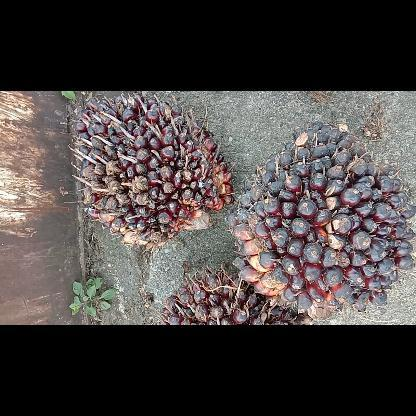TBS mentah: (226, 119, 414, 315), (71, 96, 233, 244), (163, 272, 311, 324)
